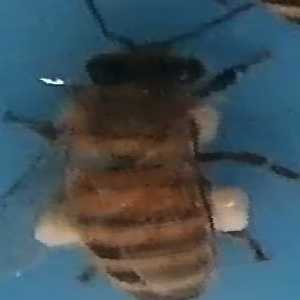bee: (3, 26, 295, 300)
